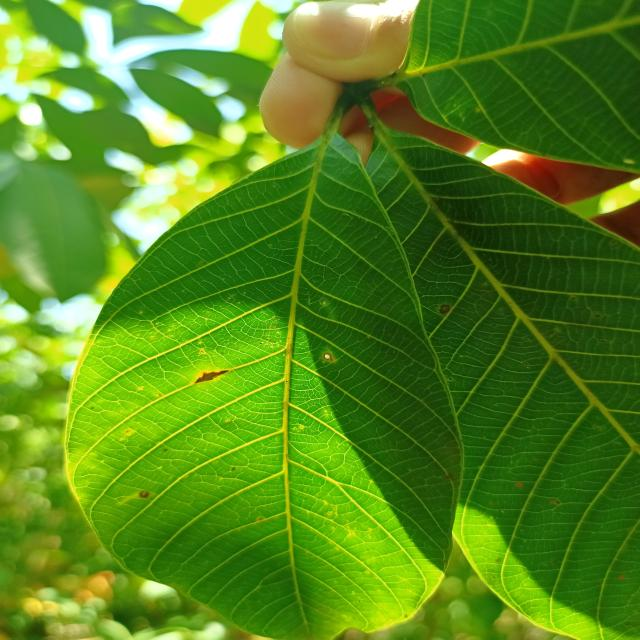Colletotrichum: (438, 304, 450, 314), (323, 353, 333, 361), (139, 491, 150, 498)
Corynespora: (194, 370, 229, 384)
